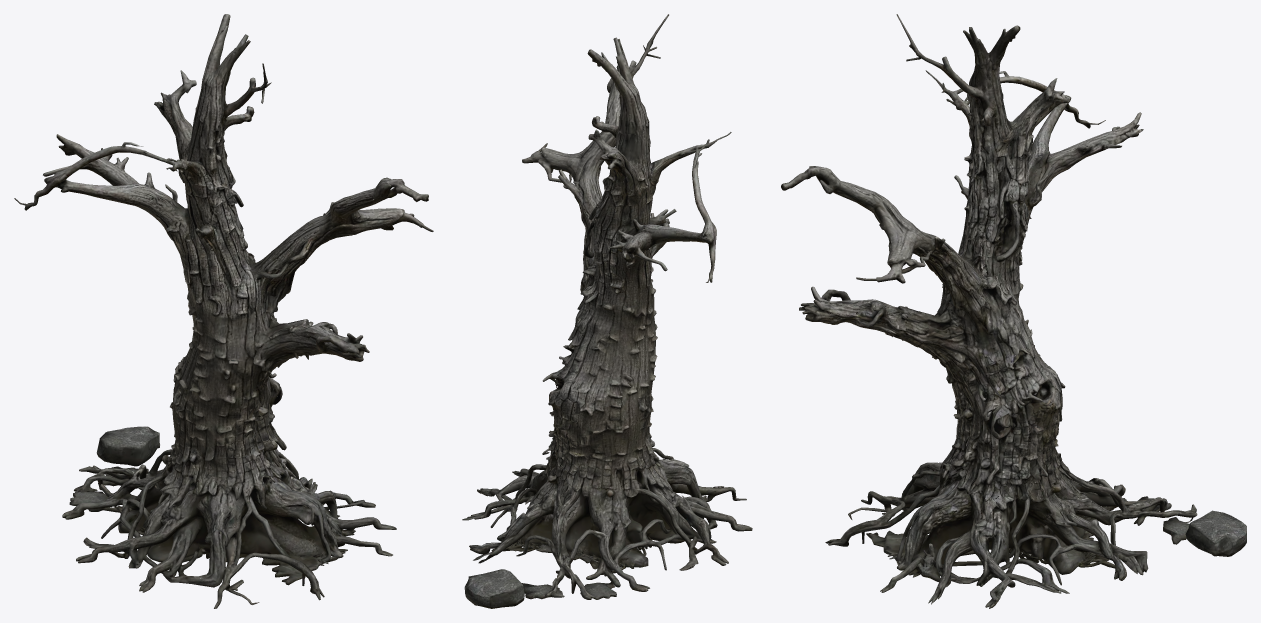
File: dead-tree-background.glb
3 renders of one model, left to right at view 1: azimuth 30°, elevation 25°; view 2: azimuth 150°, elevation 25°; view 3: azimuth 270°, elevation 25°, orthographic. The views are drawn at different scales.
Parts seen in each view (by area): view 1: tripo_node_15ebc94a-762c-4674-ae01-09cefa93147c; view 2: tripo_node_15ebc94a-762c-4674-ae01-09cefa93147c; view 3: tripo_node_15ebc94a-762c-4674-ae01-09cefa93147c.
Boxes of the visible parts, x1,y1,x2,y2 form: tripo_node_15ebc94a-762c-4674-ae01-09cefa93147c: [14, 14, 433, 608]; tripo_node_15ebc94a-762c-4674-ae01-09cefa93147c: [462, 14, 752, 608]; tripo_node_15ebc94a-762c-4674-ae01-09cefa93147c: [781, 14, 1246, 608].
Bounding box in the file's own units: 0.6024 × 0.9807 × 0.7967.
Materials: 1 (1 with a texture image).
